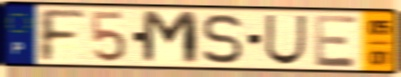5: (89, 9, 129, 64)
E: (313, 13, 360, 69)
F: (35, 7, 89, 64)
M: (140, 9, 202, 67)
S: (201, 12, 245, 66)
U: (263, 13, 309, 67)
